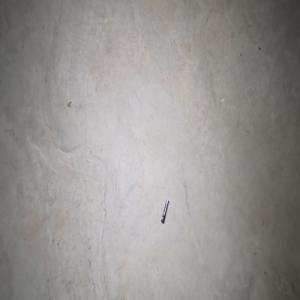Battery: (161, 198, 169, 224)
